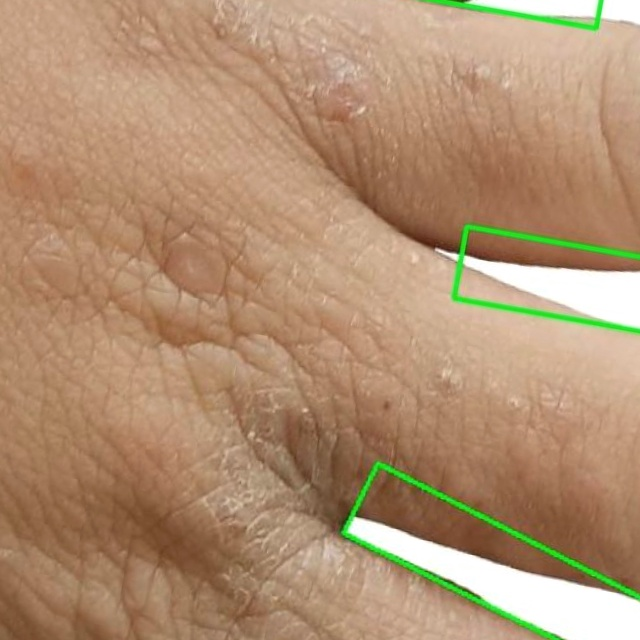Scabies: (340, 464, 639, 639), (452, 227, 639, 332)
